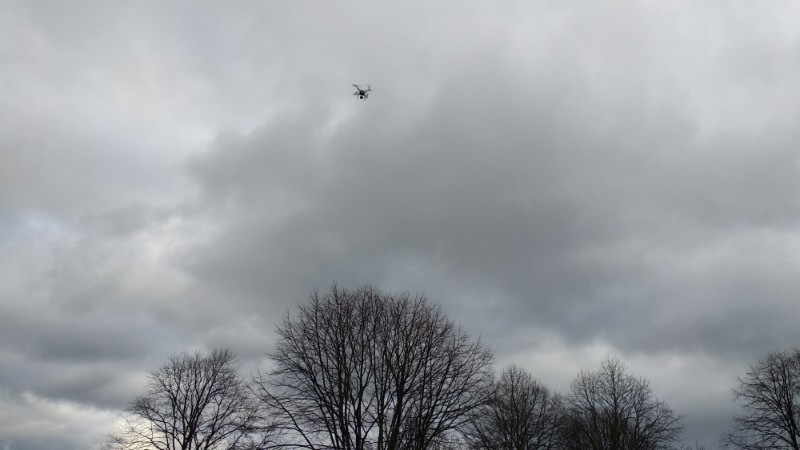drone: (350, 83, 372, 102)
